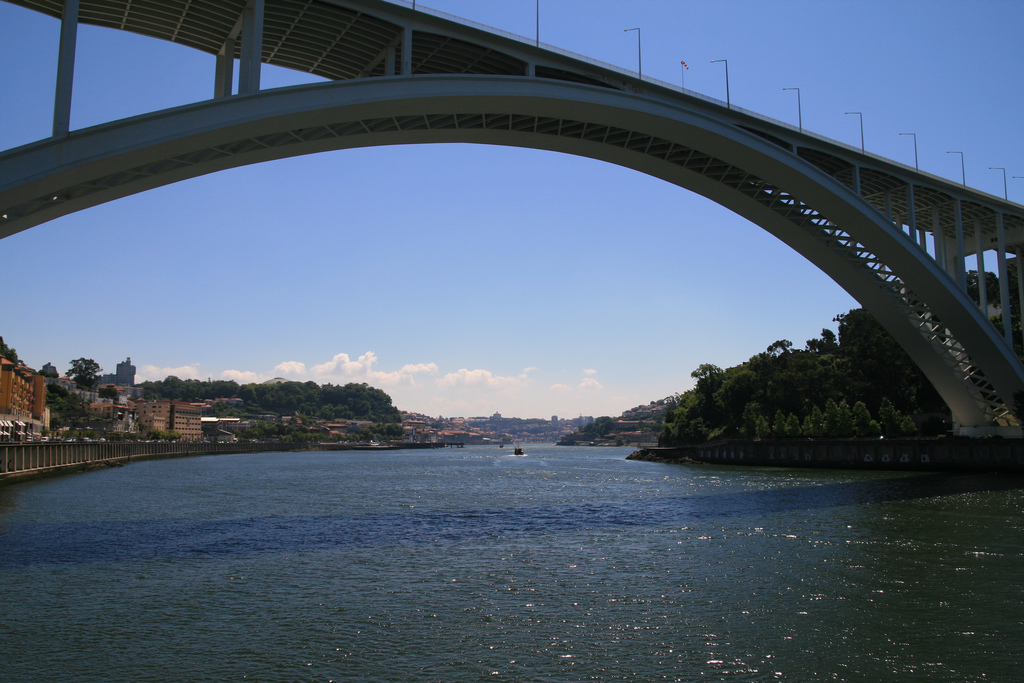arrabida: (0, 0, 1023, 437)
